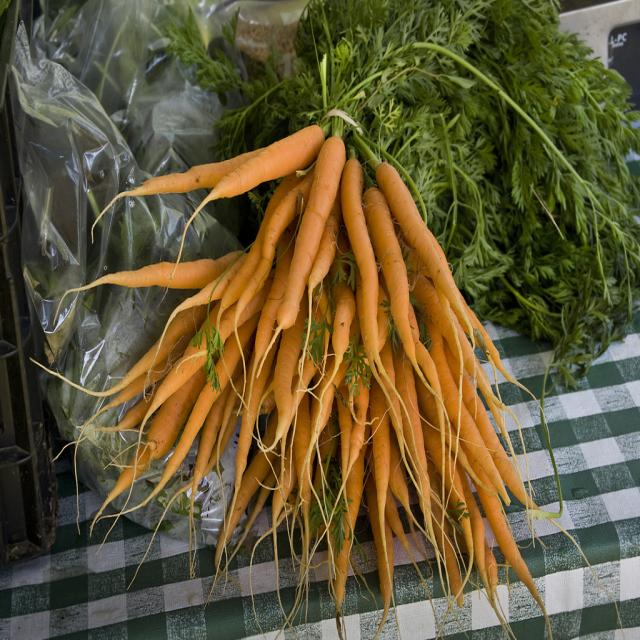Carrot: (279, 97, 343, 335), (365, 155, 429, 357)
